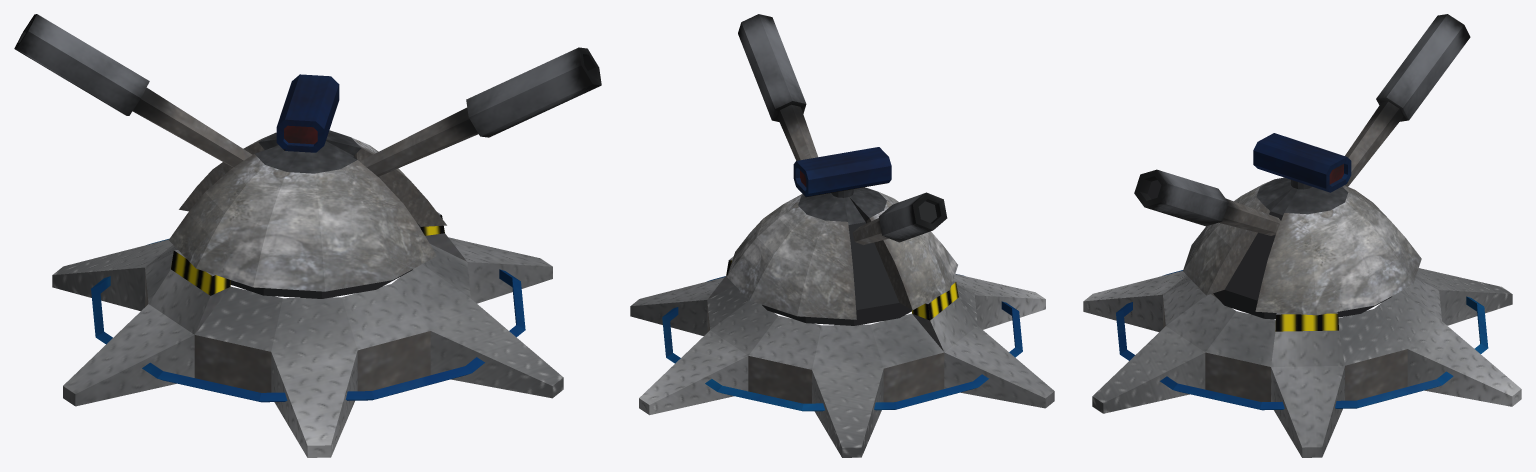
File: torrenormal2.fbx
3 renders of one model, left to right at view 1: azimuth 30°, elevation 25°; view 2: azimuth 150°, elevation 25°; view 3: azimuth 270°, elevation 25°, orthographic. The views are drawn at different scales.
Parts seen in each view (by area): view 1: Base, Torre; view 2: Base, Torre; view 3: Base, Torre.
Boxes of the visible parts, x1,y1,x2,y2 form: Base: [52, 212, 563, 457]; Torre: [14, 14, 601, 298]; Base: [630, 256, 1054, 457]; Torre: [727, 14, 957, 325]; Base: [1083, 268, 1521, 457]; Torre: [1134, 14, 1470, 319].
Size of the model in its own units: 429 by 258 by 388.
